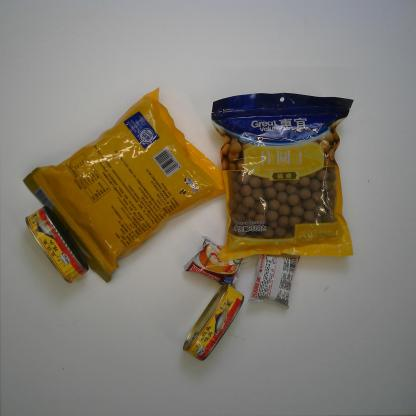Canned Food: (23, 204, 90, 286), (182, 283, 245, 363)
Dessert: (182, 234, 253, 291), (247, 252, 301, 311)
Dried Food: (23, 85, 228, 284), (209, 91, 355, 263)
